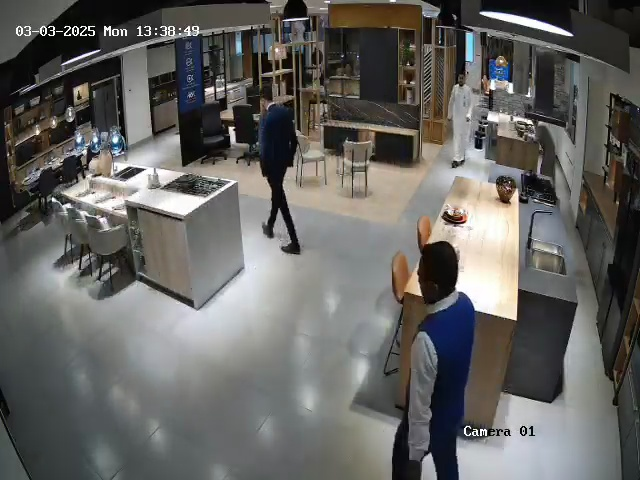employee: (391, 240, 476, 480), (258, 86, 301, 255)
male: (447, 72, 474, 169)
